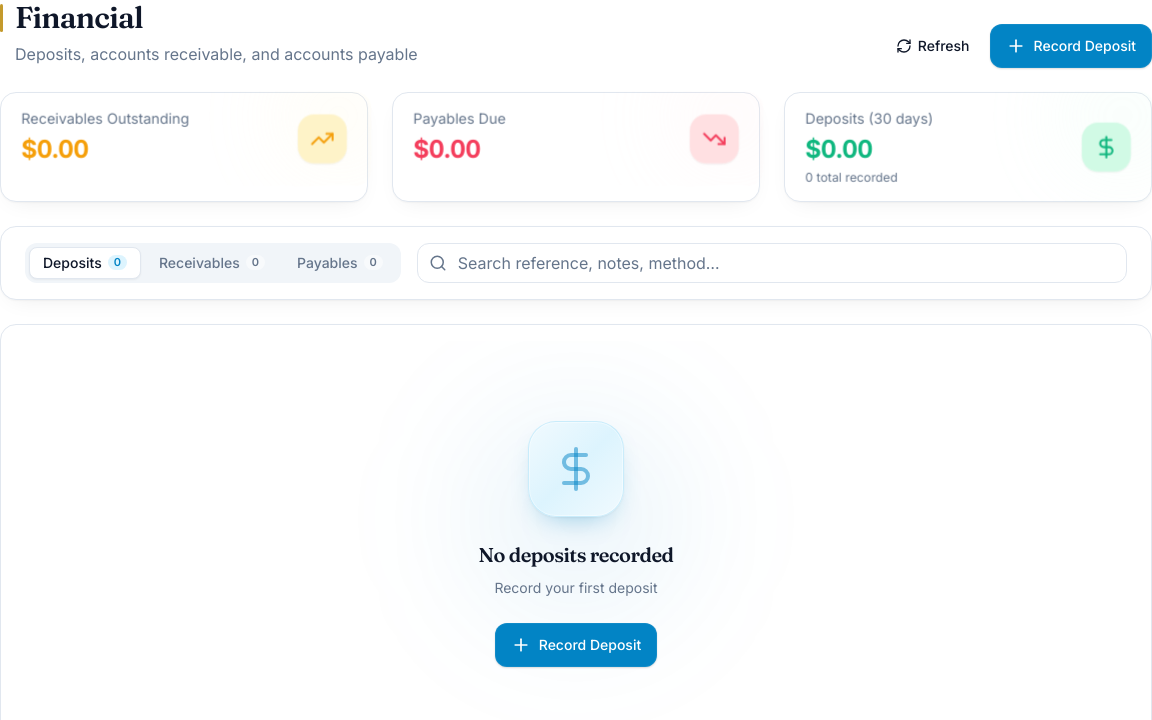
it: Financial page — modal state between sessions › discards an abandoned deposit rather than restoring it on reopen
Step 1. Click the button "Record Deposit" → x=1071, y=46, box [990,24,1151,68]
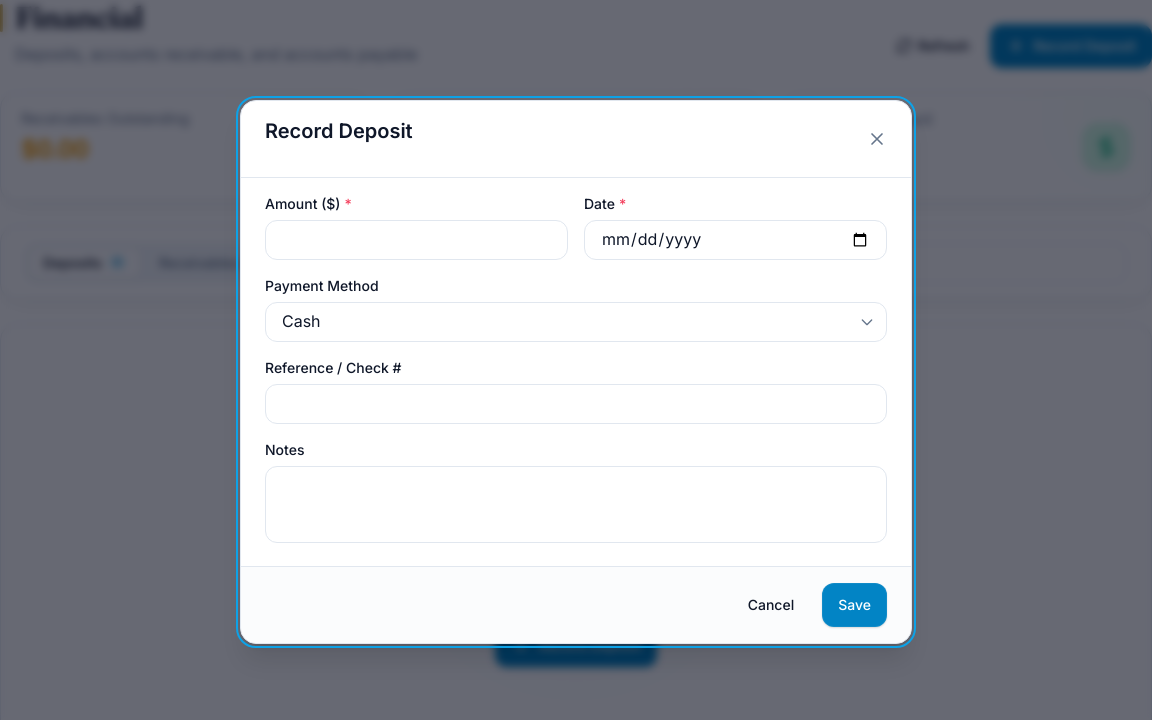
Step 2. Type "500" into the number field labelled "Amount ($)*" → x=416, y=240, box [265,220,568,260]
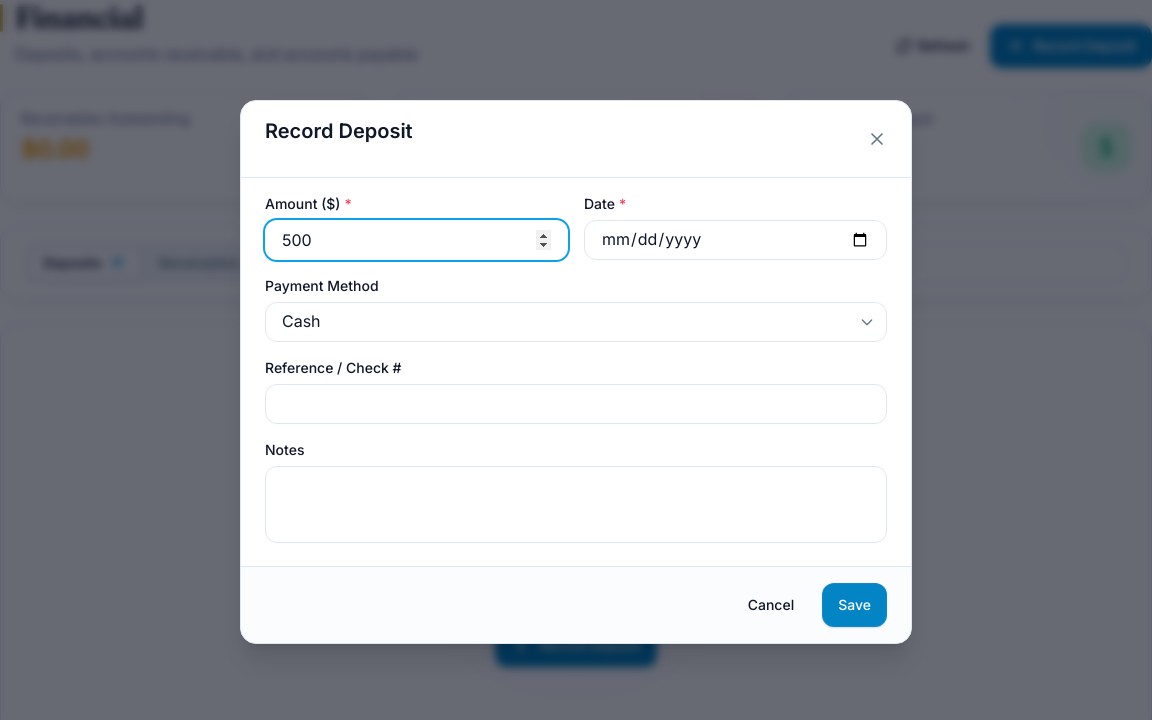
Step 3. Type "CHK-9001" into the field labelled "Reference / Check #" → x=576, y=404, box [265,384,887,424]
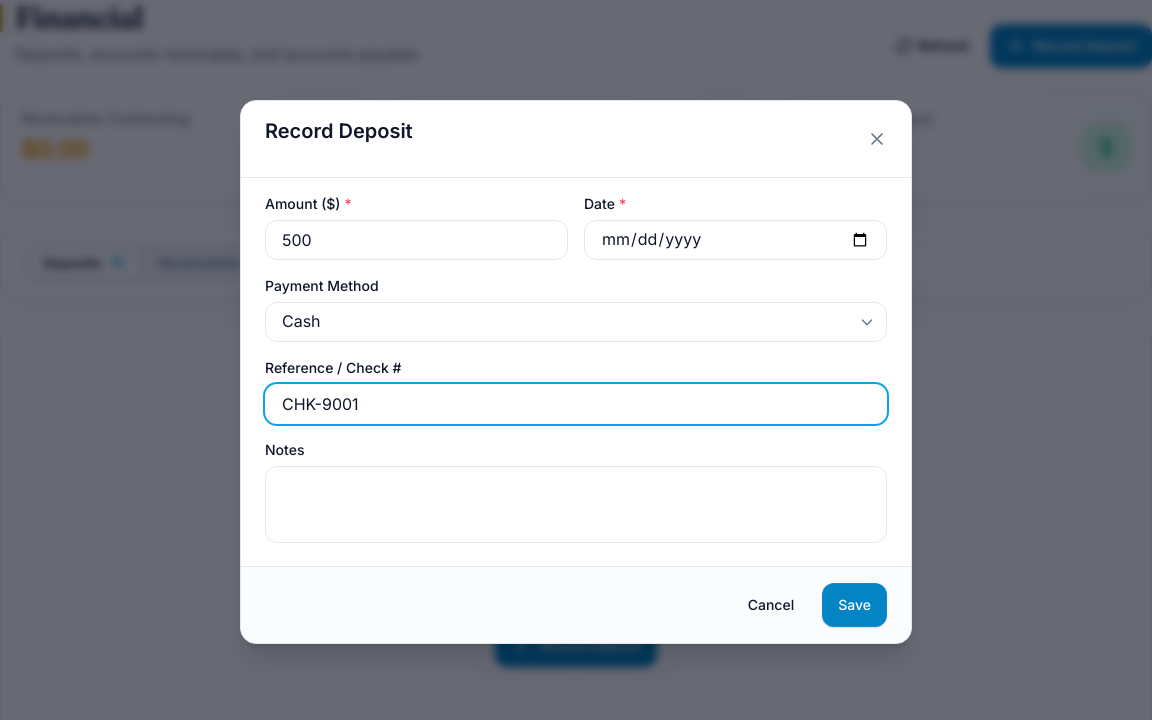
Step 4. Click the button "Cancel" → x=771, y=605, box [732,583,810,627]
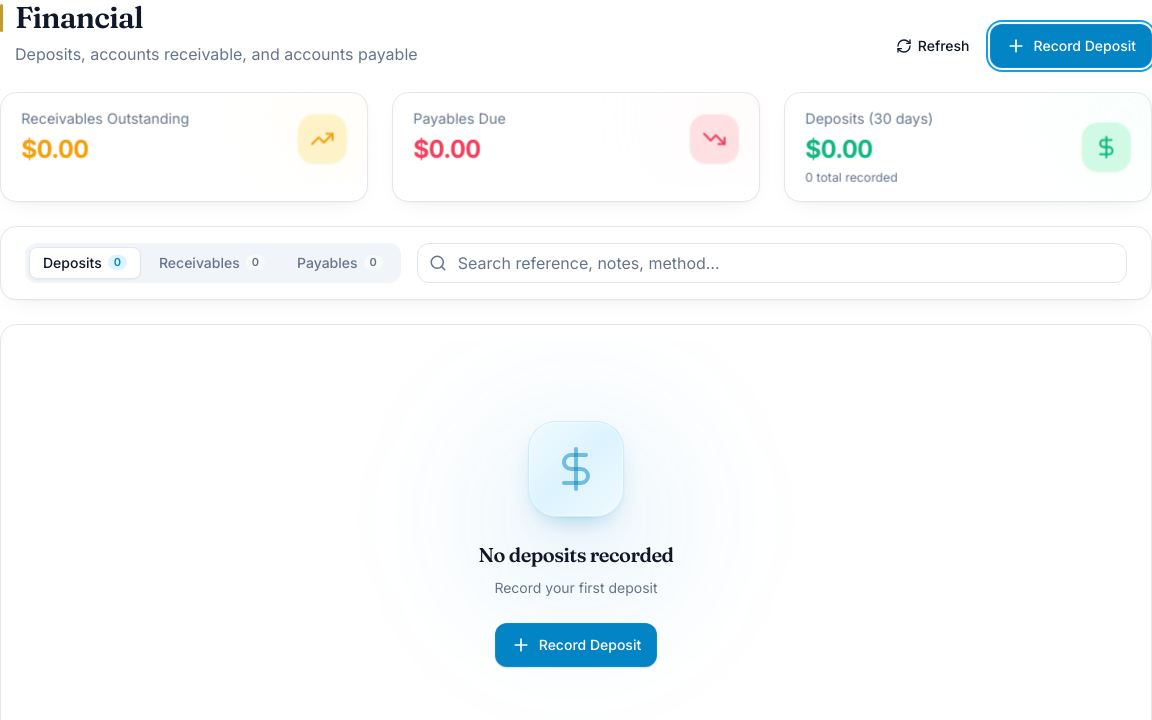
Expected: the dialog is gone
Step 5. Click the button "Record Deposit" → x=1071, y=46, box [990,24,1151,68]
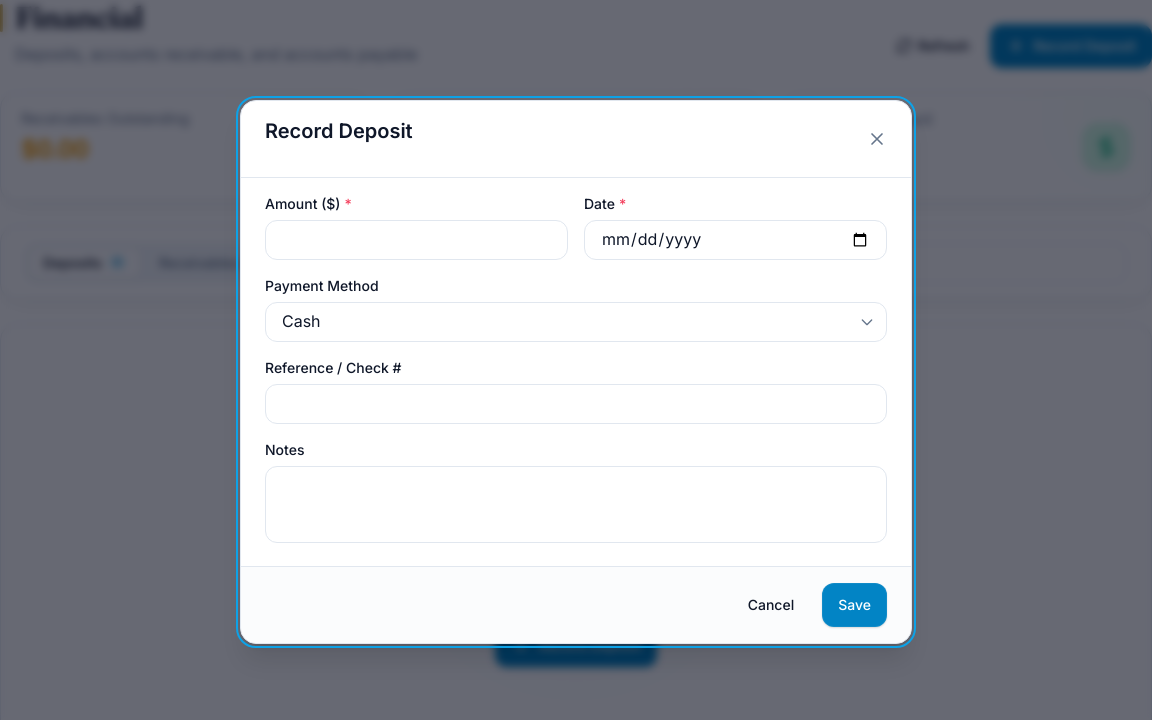
Expected: the field labelled "Reference / Check #" is empty, [265,384,887,424]
Expected: the dialog is shown, [240,100,912,644]
Expected: the number field labelled "Amount ($)*" is not empty, [265,220,568,260]
